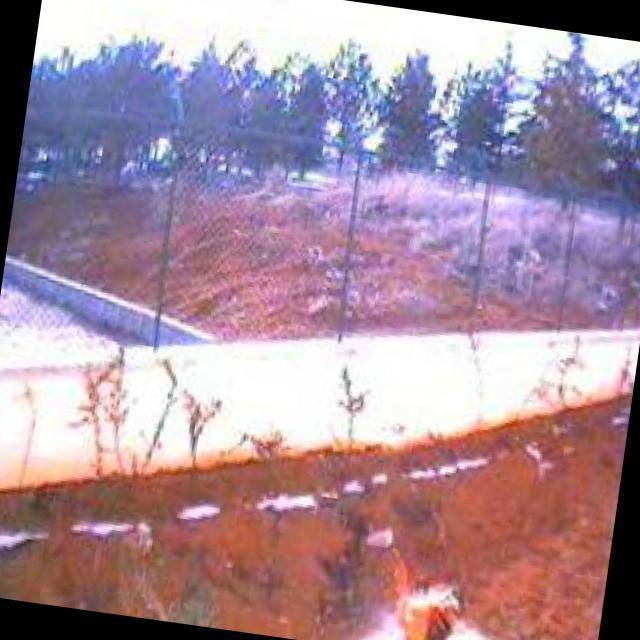Fire: (372, 547, 476, 640)
